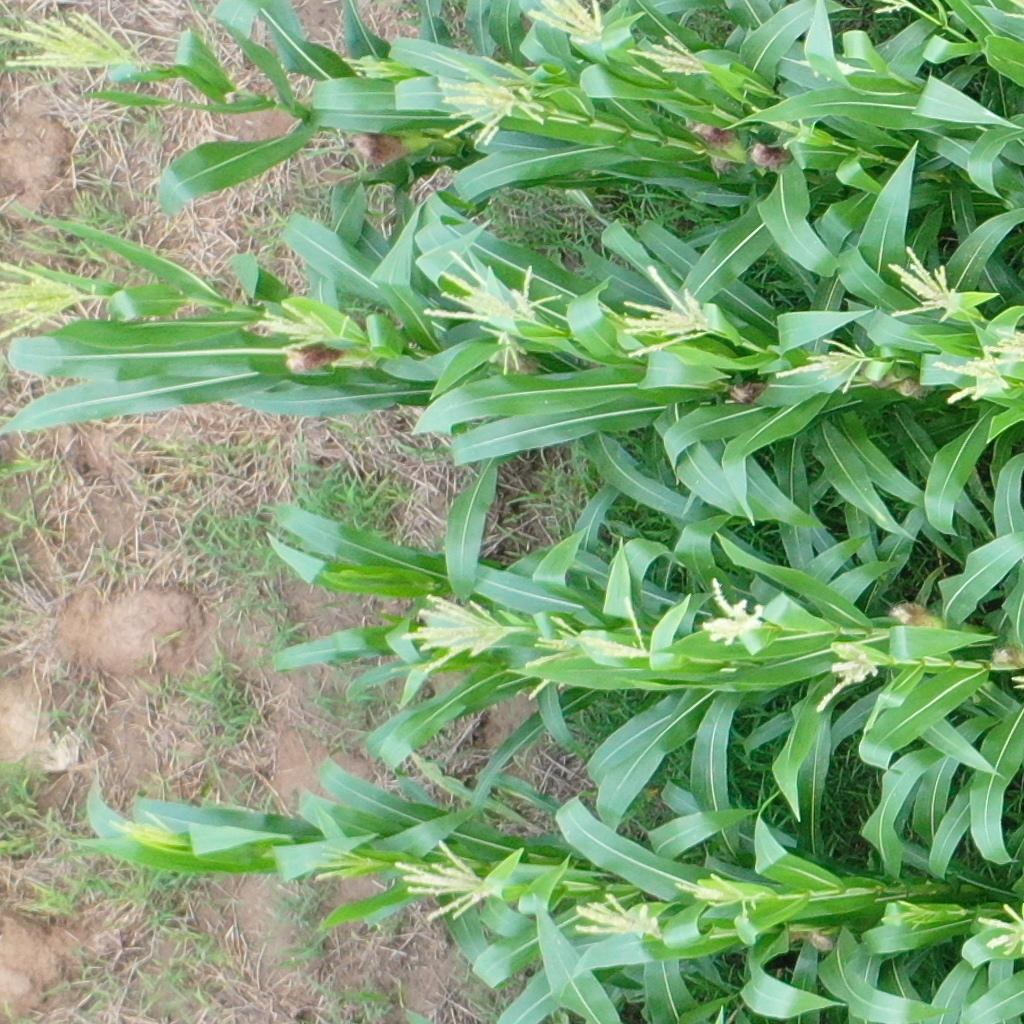Tassel: (413, 243, 567, 373), (517, 584, 659, 700), (421, 44, 553, 148), (1, 9, 149, 82), (398, 588, 506, 681), (611, 265, 714, 360), (392, 839, 494, 926), (1, 263, 100, 341), (765, 331, 882, 395), (561, 881, 668, 947), (885, 247, 967, 322), (250, 300, 356, 357), (695, 577, 772, 652), (815, 633, 875, 718), (927, 343, 1009, 403), (106, 808, 190, 861), (671, 873, 763, 921), (625, 27, 703, 77), (303, 837, 372, 889), (530, 1, 613, 43), (973, 900, 1024, 961), (339, 47, 408, 86), (975, 325, 1024, 368), (882, 897, 936, 933)
